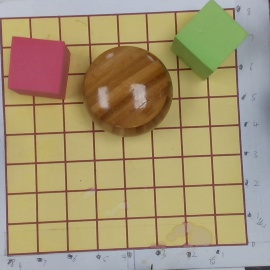chess: (82, 46, 174, 140)
